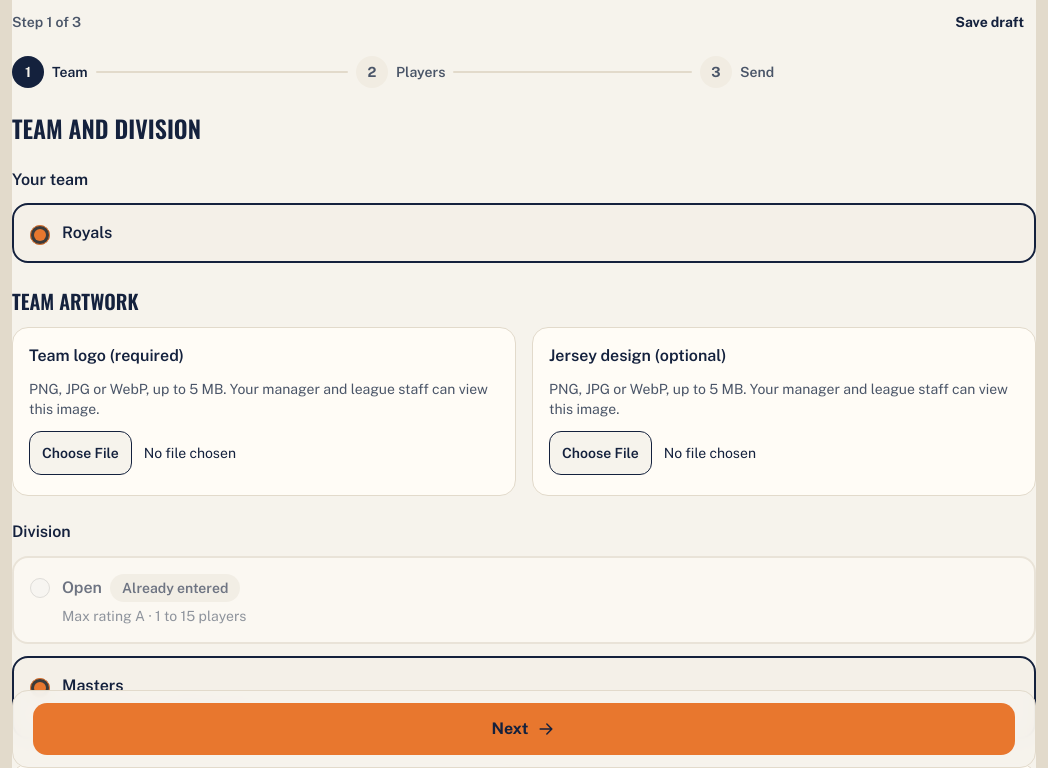
Test: building the roster › adds an existing player with one tap and the next free jersey
Click the button "Next".
click(524, 729)  # box [33,703,1015,755]
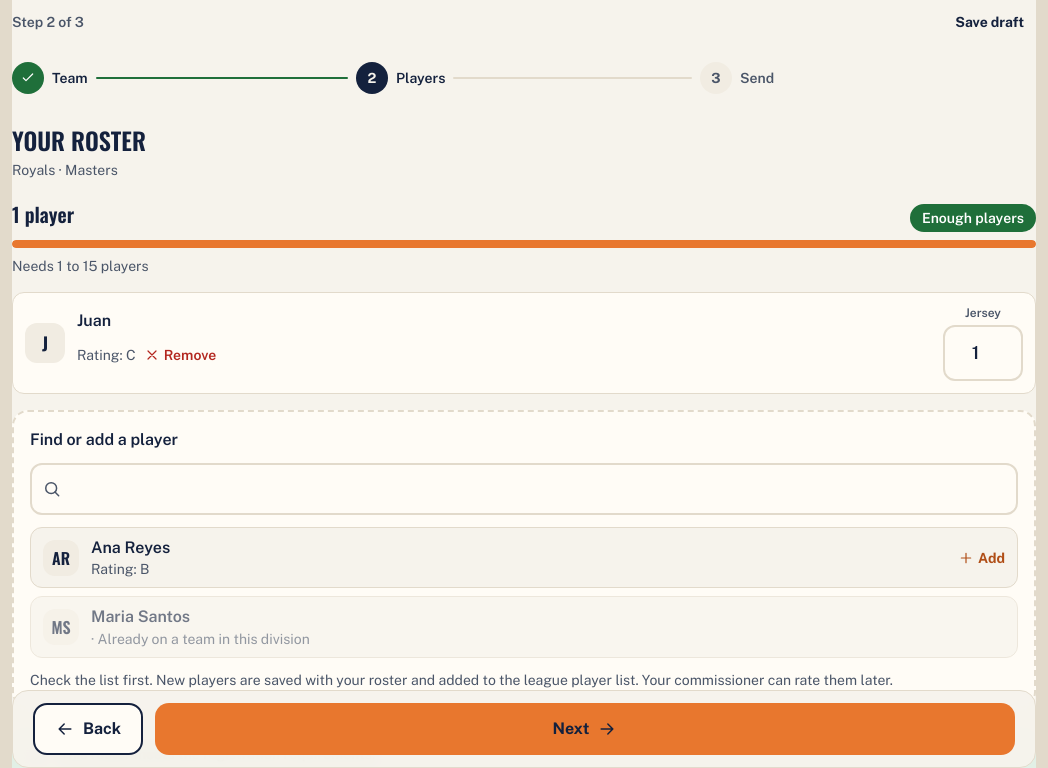
Check: the heading "Your roster" is shown, box [12,122,146,158]
Click the button with aria-label "Add Ana Reyes".
click(61, 558)  # box [30,527,1018,588]
(page scrolled)
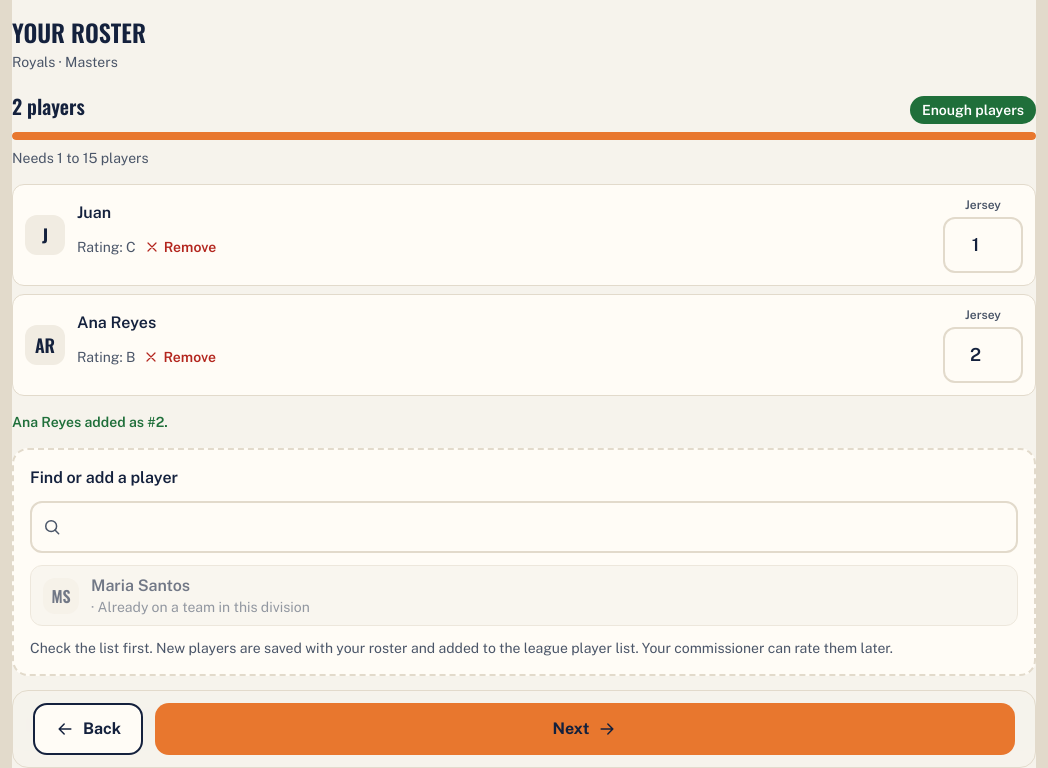
Check: the number field named "Jersey number for Ana Reyes" holds "2", box [943,327,1023,383]
Check: the text "Ana Reyes added as #2." is shown, box [12,414,168,430]
